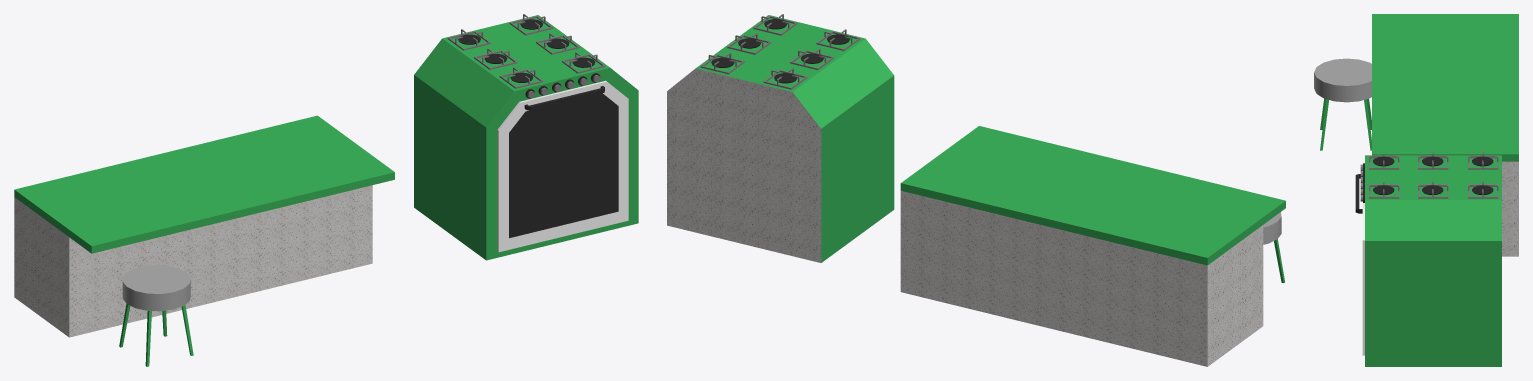
The model's file is Marble table.fbx.
3 views of the same model, side by side, from view 1: azimuth 30°, elevation 25°; view 2: azimuth 150°, elevation 25°; view 3: azimuth 270°, elevation 25° (orthographic). The views are drawn at different scales.
Parts seen in each view (by area): view 1: MArble table, big owen, Stool; view 2: MArble table, big owen, Stool; view 3: big owen, MArble table, Stool.
Boxes of the visible parts, bbox=[...] form: MArble table: bbox=[14, 115, 394, 337]; big owen: bbox=[414, 14, 638, 260]; Stool: bbox=[119, 265, 193, 366]; MArble table: bbox=[900, 126, 1285, 366]; big owen: bbox=[667, 14, 894, 262]; Stool: bbox=[1263, 212, 1284, 283]; big owen: bbox=[1355, 151, 1501, 366]; MArble table: bbox=[1372, 14, 1518, 256]; Stool: bbox=[1314, 58, 1371, 150].
Bounding box in the file's own units: 708 × 211 × 244.
2 materials, 2 textured.
